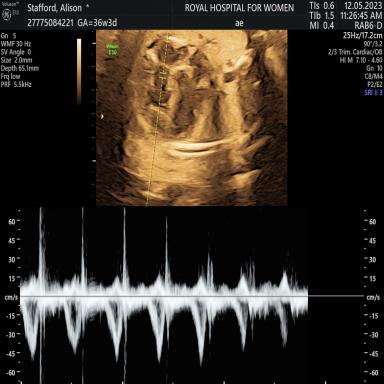Ultrasound-Waves: (26, 210, 304, 383)
